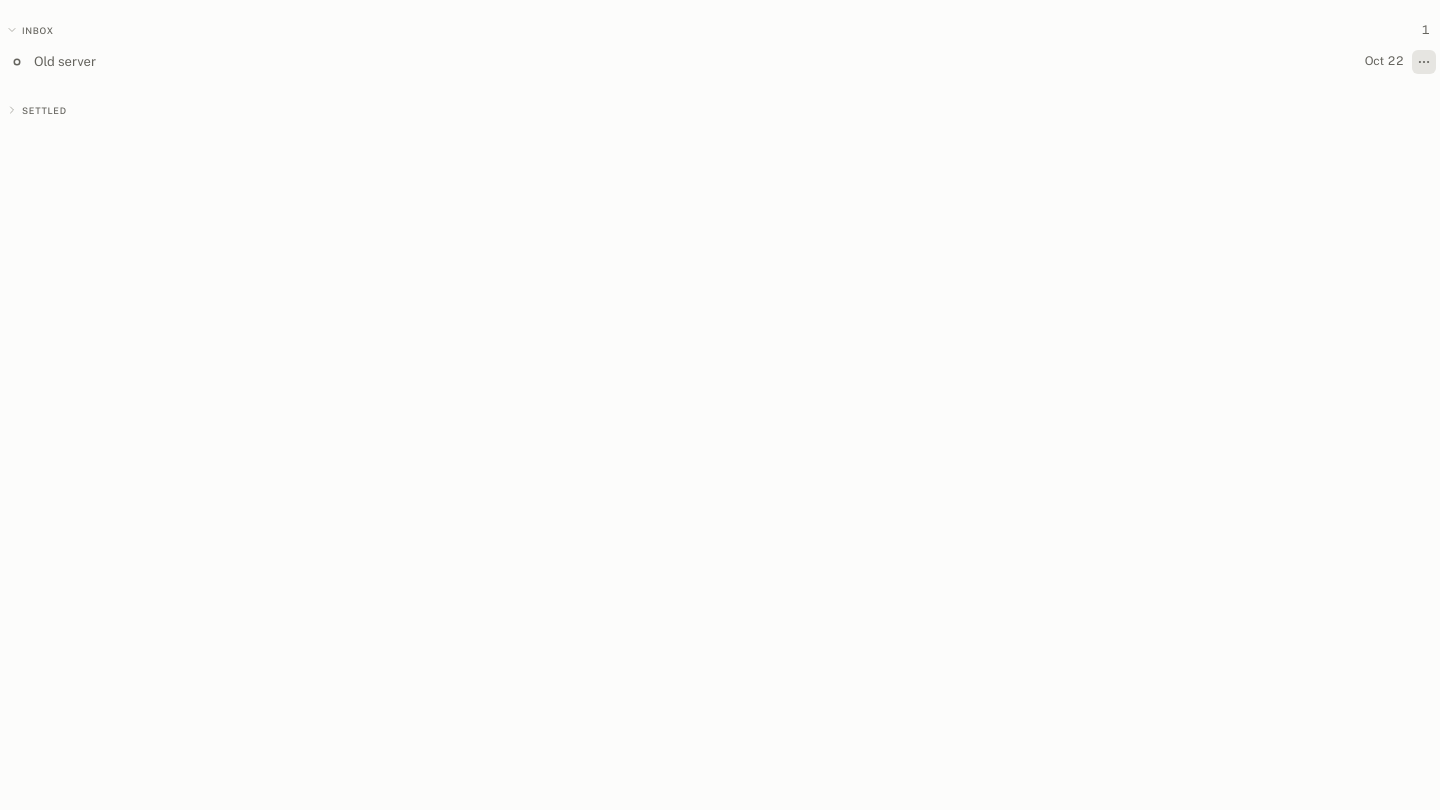
Test: undo settle, snooze and archive › offers no Undo when the server sends no previous state
The image size is (1440, 810).
Expected: the text "Old server" is shown, top-left (34, 54), bottom-right (96, 68)
What coordinates should you click on to do the following:
click the button named "Actions for Old server"
I would click on:
 (1424, 62)
Its box is top-left (1412, 50), bottom-right (1436, 74).
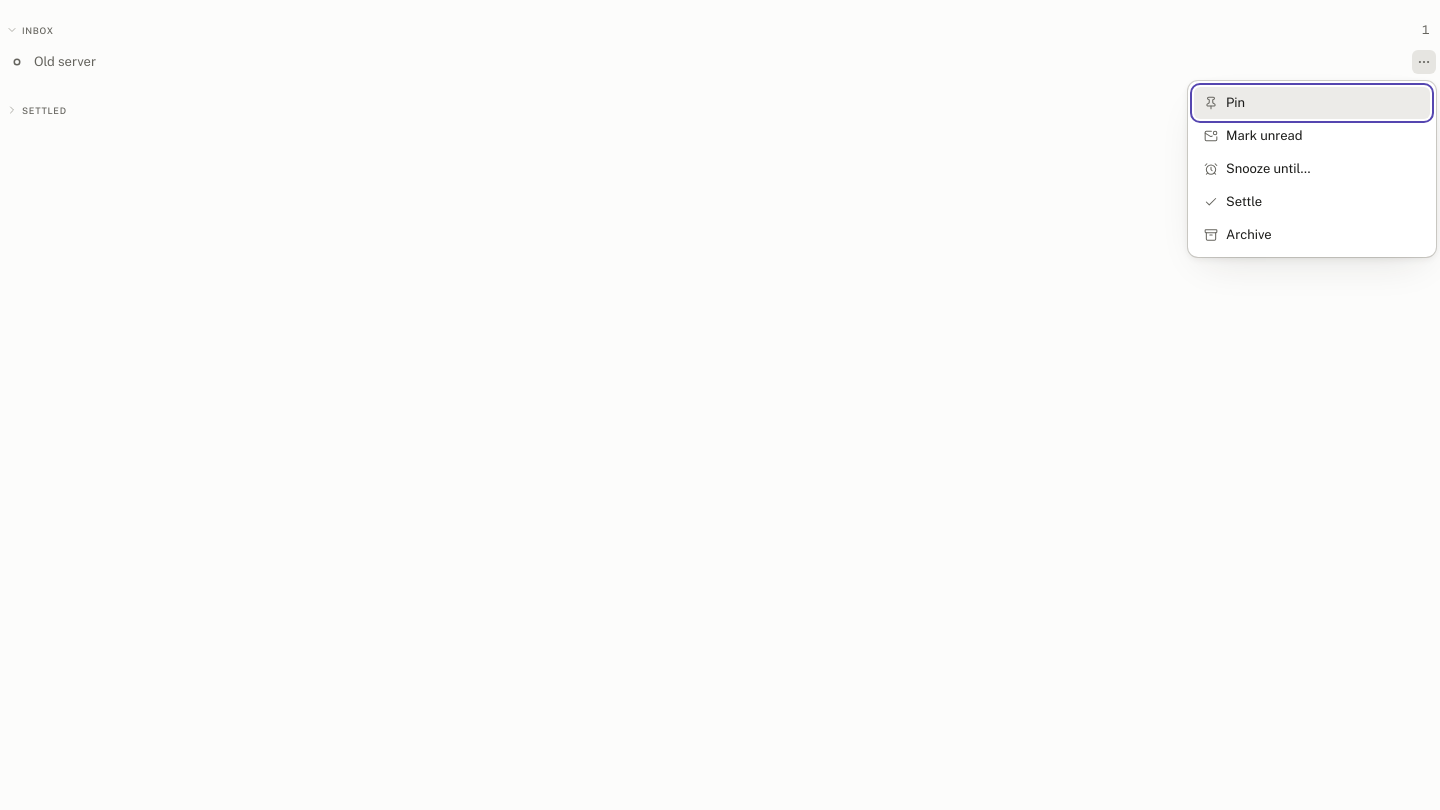
What coordinates should you click on to do the following:
click the button "Settle"
I would click on:
 (1312, 202)
Its box is top-left (1194, 186), bottom-right (1430, 218).
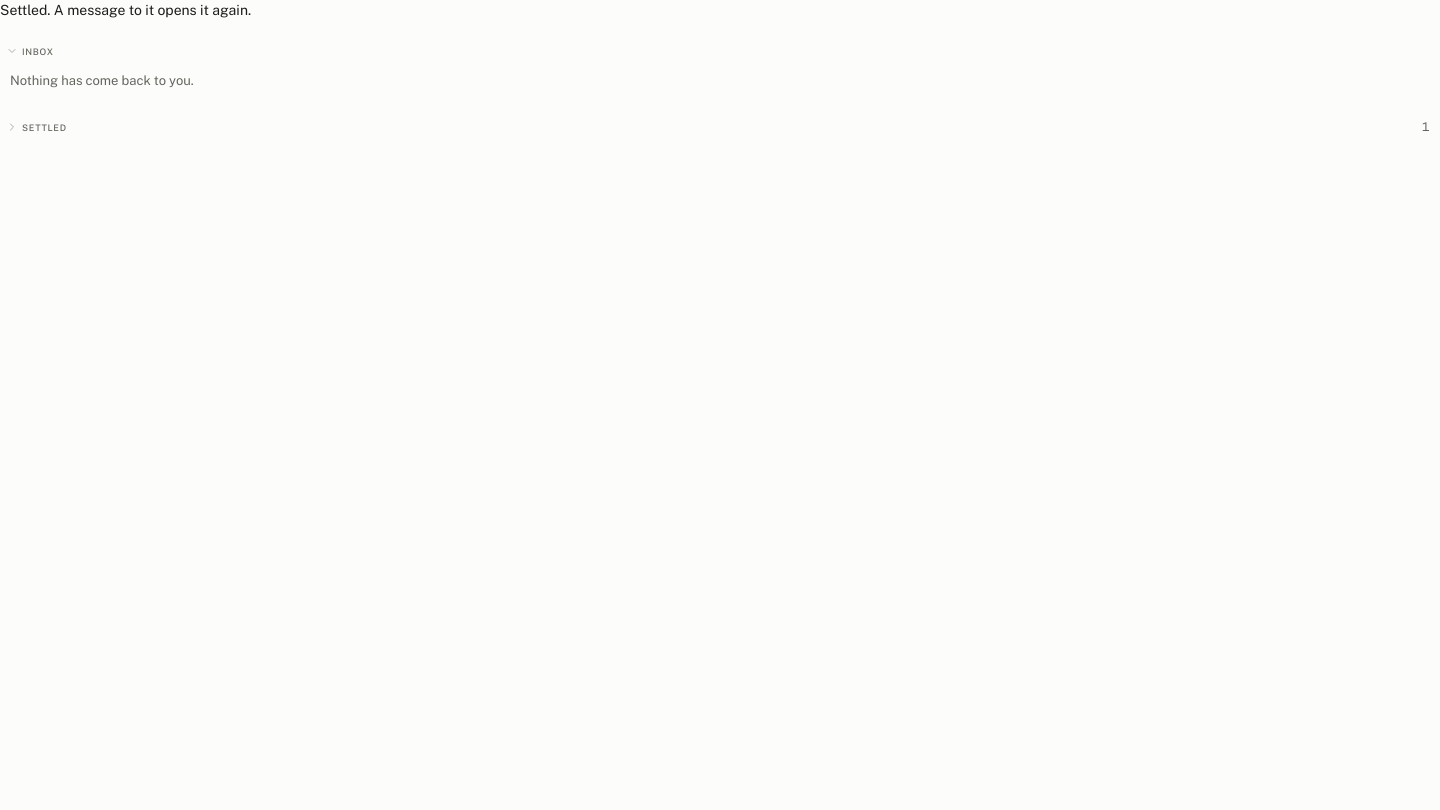
Expected: the text "Settled. A message to it opens it again." is shown, top-left (0, 2), bottom-right (251, 18)
Expected: the button "Pin" is gone
